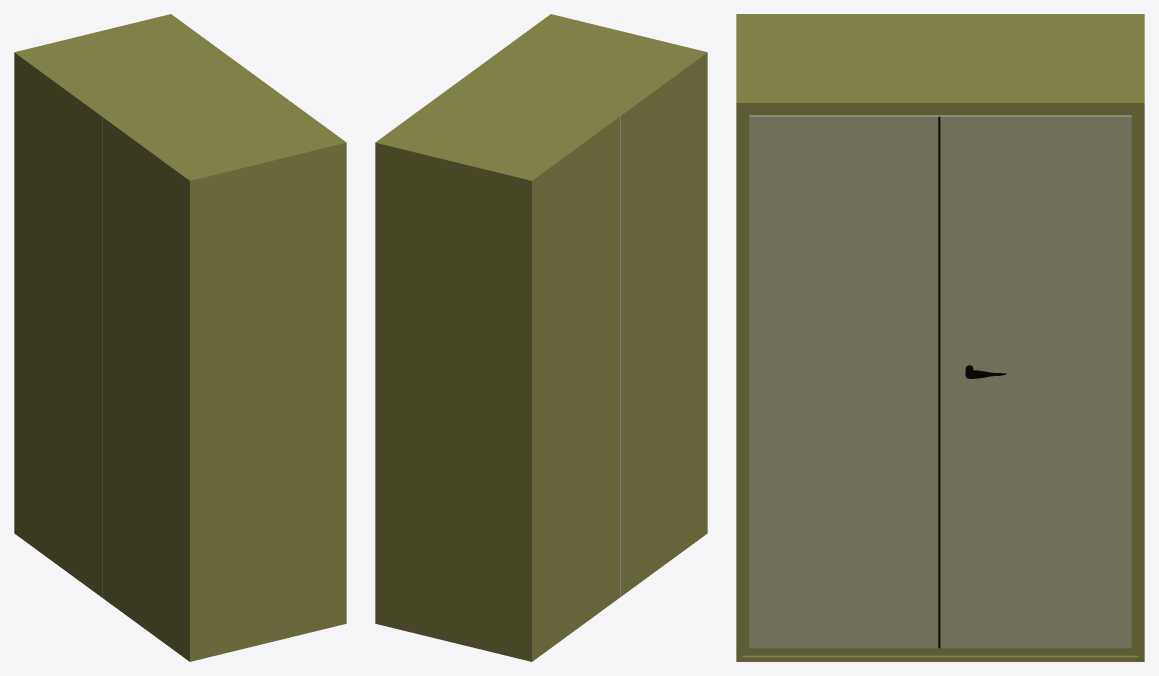
File: cupboard2.fbx
3 renders of one model, left to right at view 1: azimuth 30°, elevation 25°; view 2: azimuth 150°, elevation 25°; view 3: azimuth 270°, elevation 25°, orthographic. The views are drawn at different scales.
Visible parts, largest first — view 1: pCube18; view 2: pCube18; view 3: pCube18.
Boxes of the visible parts, <box> form: pCube18: <box>14,14,346,661</box>; pCube18: <box>375,14,707,661</box>; pCube18: <box>736,14,1144,661</box>.
Size of the model in its own units: 60.27 by 164 by 109.
